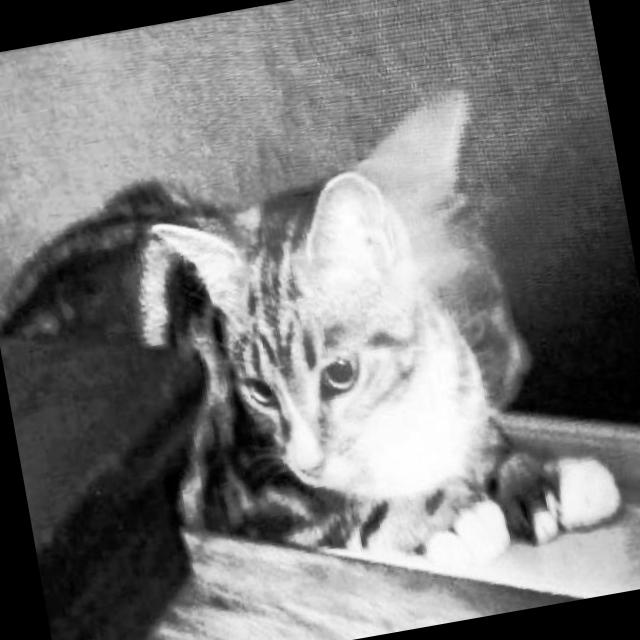Cat: (0, 93, 629, 640)
